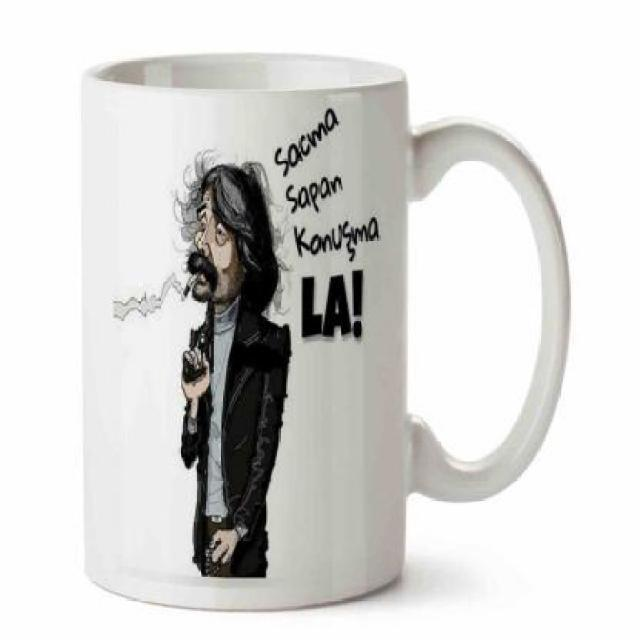taza: (57, 45, 580, 615)
